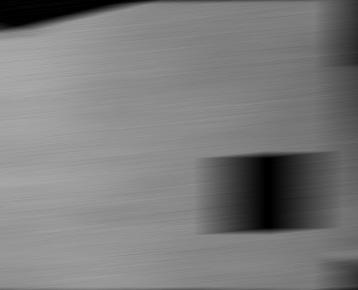Airbag: (0, 1, 358, 290), (340, 0, 358, 290)
